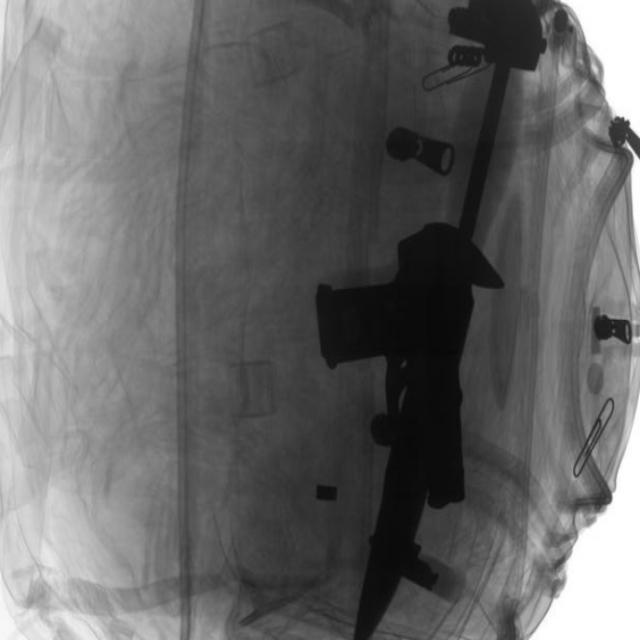GUN: (315, 220, 493, 459)
